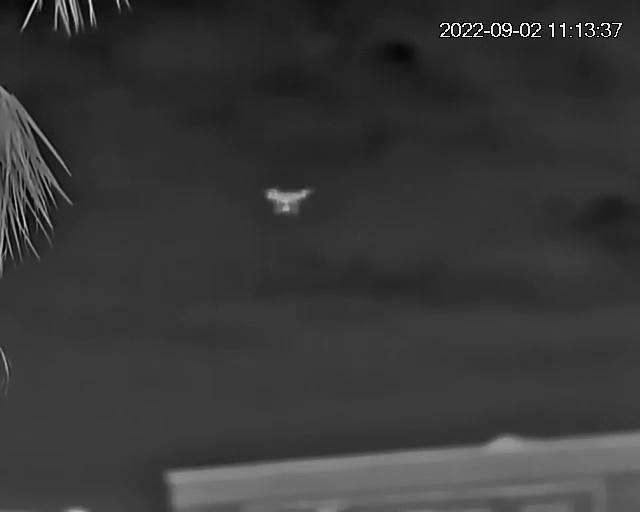DJI-Phantom: (261, 181, 314, 220)
